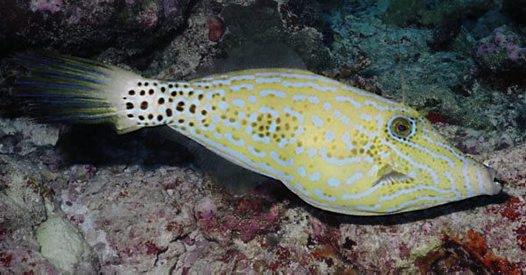Aluterus_scriptus: (16, 43, 506, 226)
